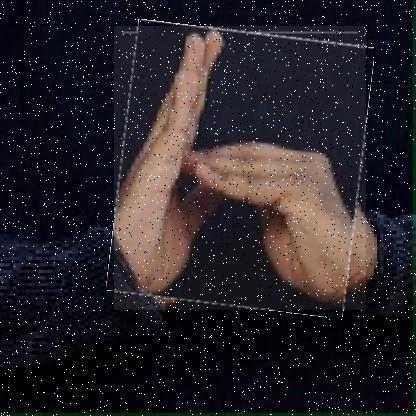Z: (114, 26, 367, 311)
